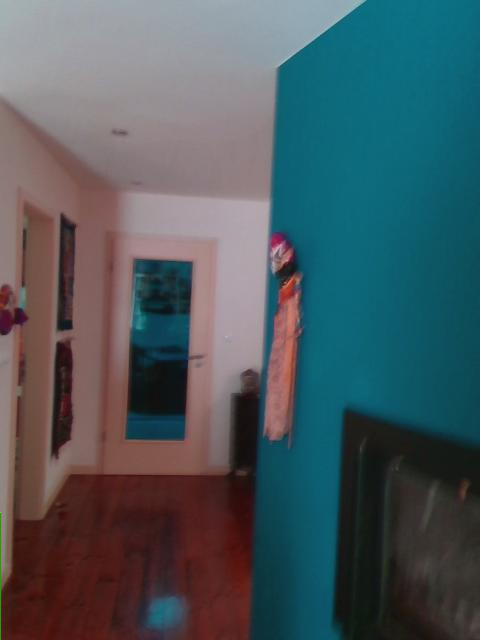closed_door: (96, 229, 217, 477)
